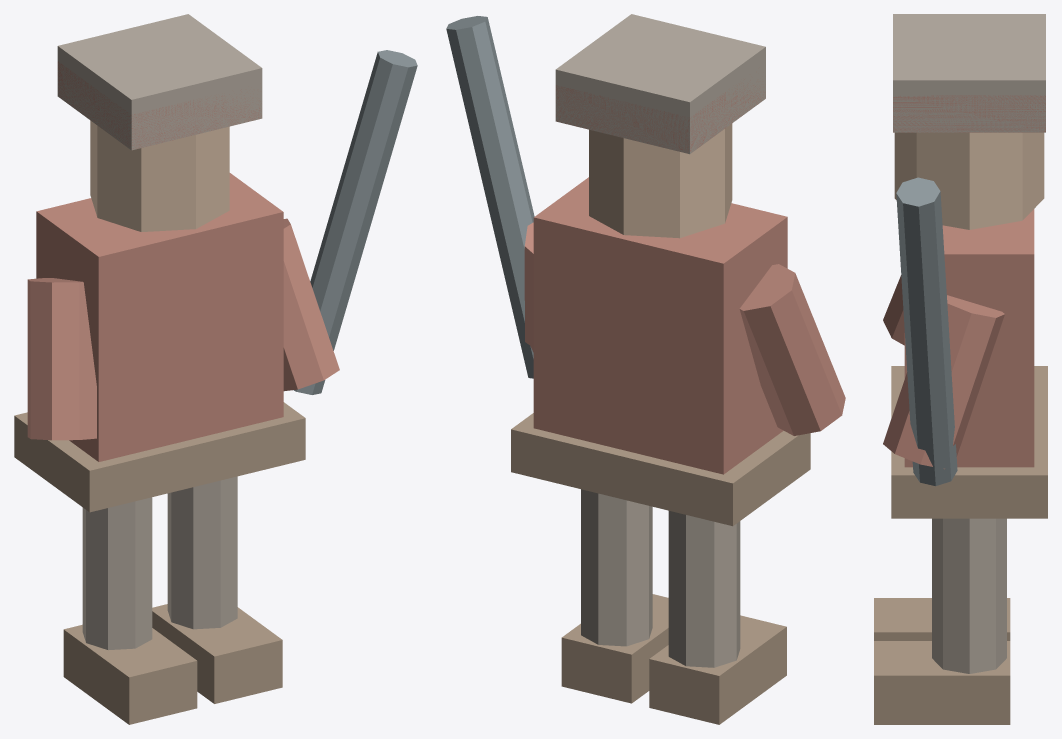
Rendered from danyang.glb.
The picture shows the model from 3 angles, left to right: view 1: azimuth 30°, elevation 25°; view 2: azimuth 150°, elevation 25°; view 3: azimuth 270°, elevation 25°; orthographic projection. The views are drawn at different scales.
Bounding box in the file's own units: 1.35 × 2.07 × 0.51.
